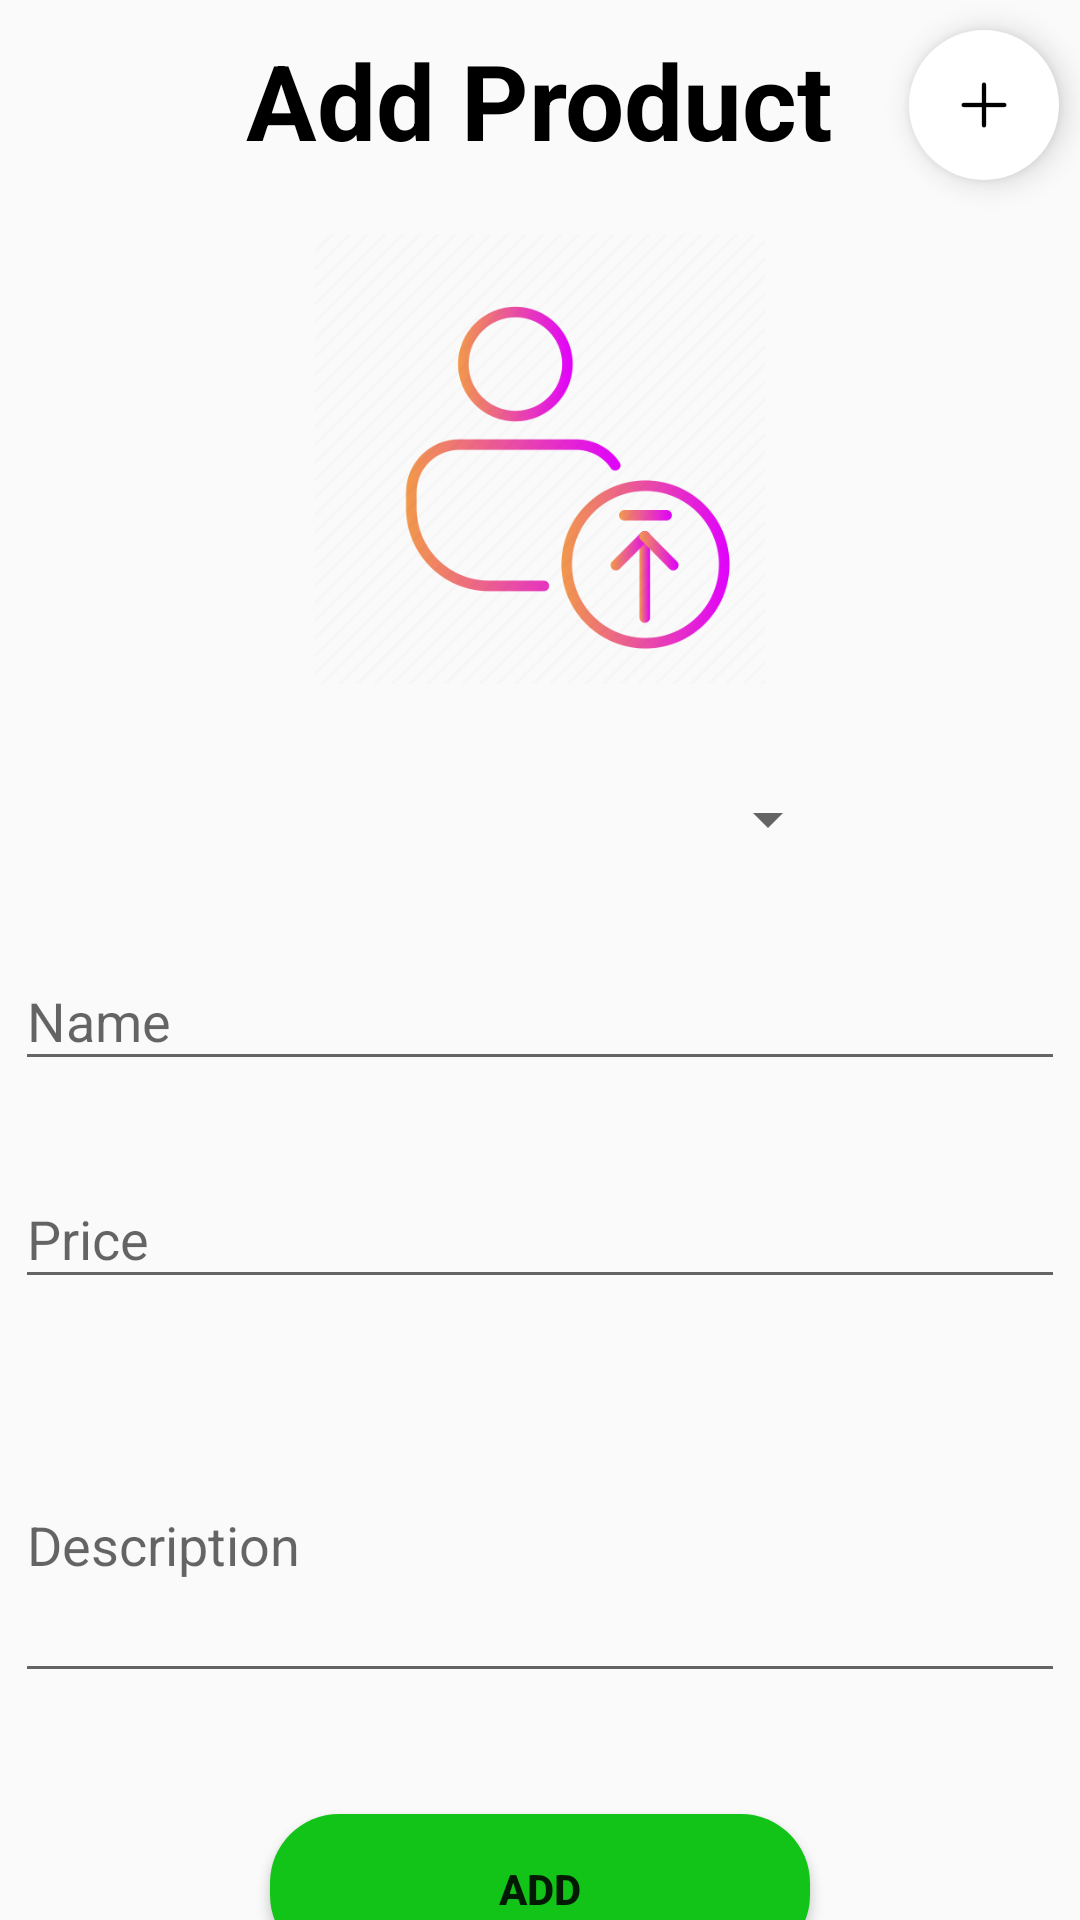

Named icons in this screenshot (1080w x 1920h) and their centers, point (x, y):
profileupload: point (567, 477)
